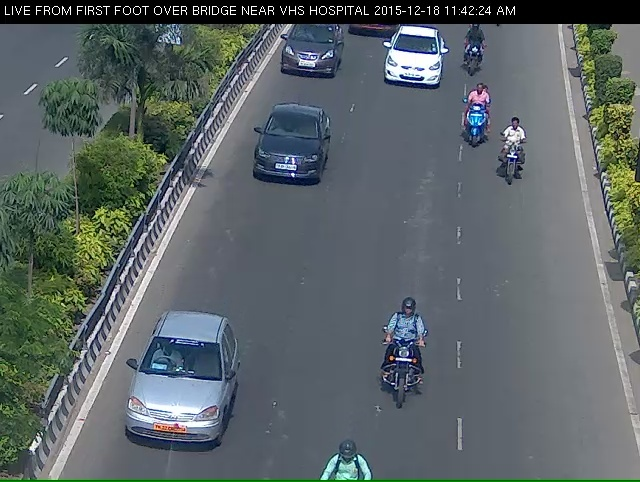Car: (108, 341, 233, 475), (245, 117, 331, 207), (273, 16, 343, 95), (378, 32, 447, 104)
Person: (377, 324, 435, 446), (495, 133, 527, 196), (459, 98, 486, 166), (465, 34, 486, 83)
